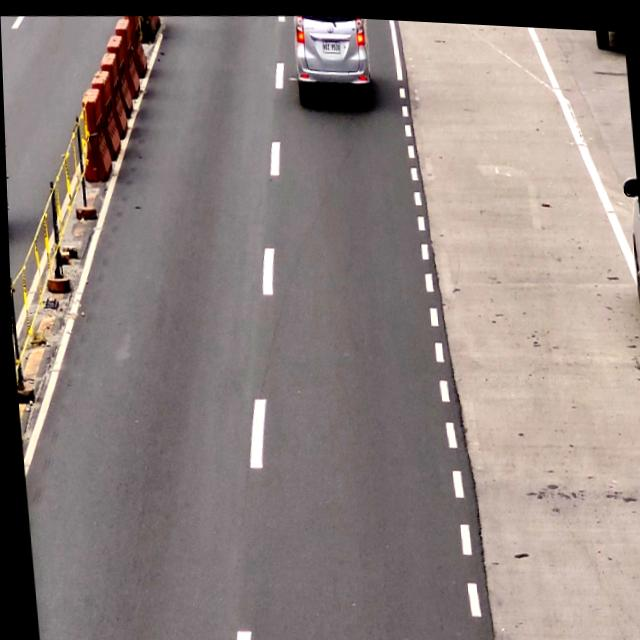Car: (293, 12, 374, 102)
License-Plate: (323, 36, 342, 50)
